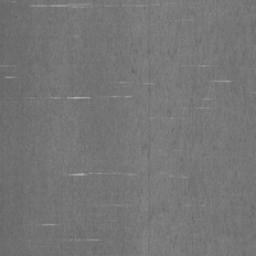Waist folding: (65, 105, 256, 221), (0, 0, 170, 19), (30, 79, 154, 101), (20, 222, 100, 243), (181, 63, 256, 85), (0, 63, 16, 81), (239, 138, 256, 143)
